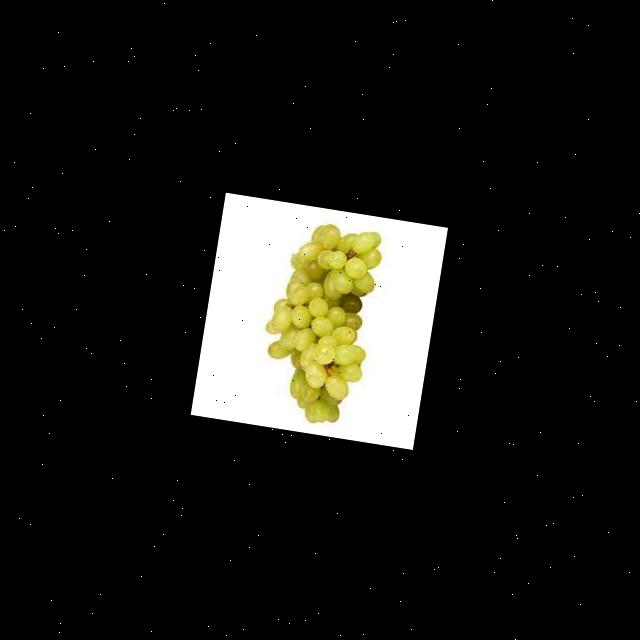grape: (251, 216, 386, 430)
